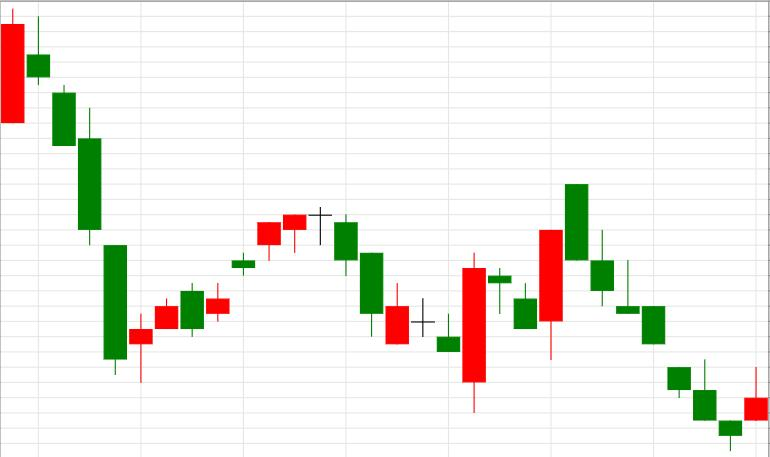bullish_engulfing_rise: (309, 208, 485, 412)
morning_star_rise: (566, 183, 768, 450)
